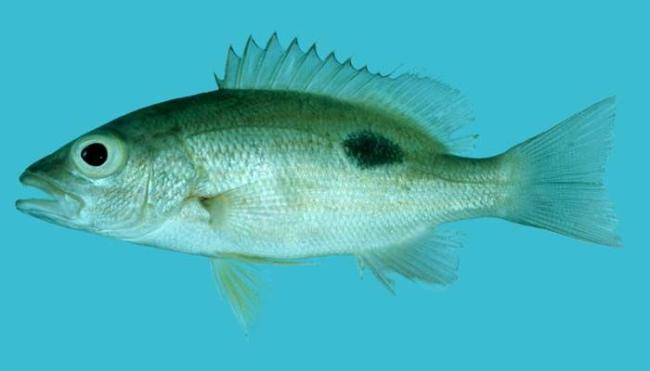fish: (15, 31, 625, 339)
